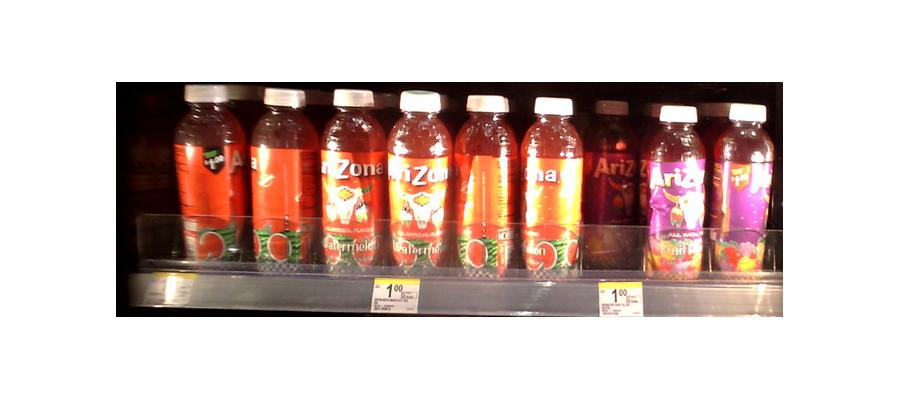bottle: (174, 79, 246, 268), (320, 82, 385, 275), (249, 84, 316, 267), (455, 92, 516, 281), (390, 87, 450, 276), (521, 96, 581, 282), (648, 100, 705, 282), (712, 102, 771, 277), (587, 97, 636, 268)
